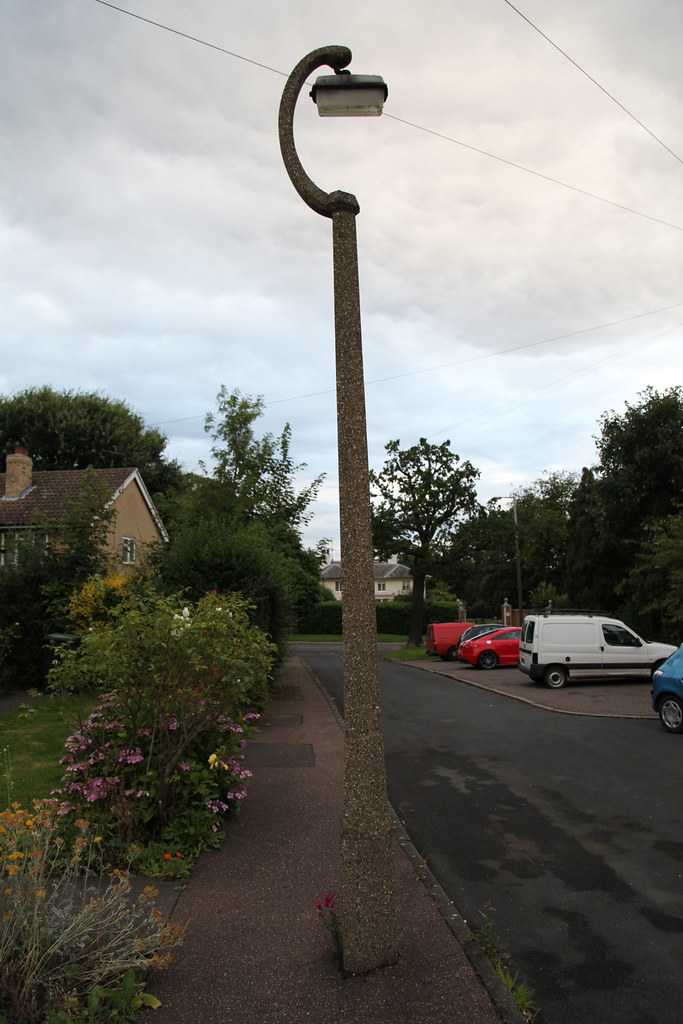light_pole: (277, 46, 414, 987)
